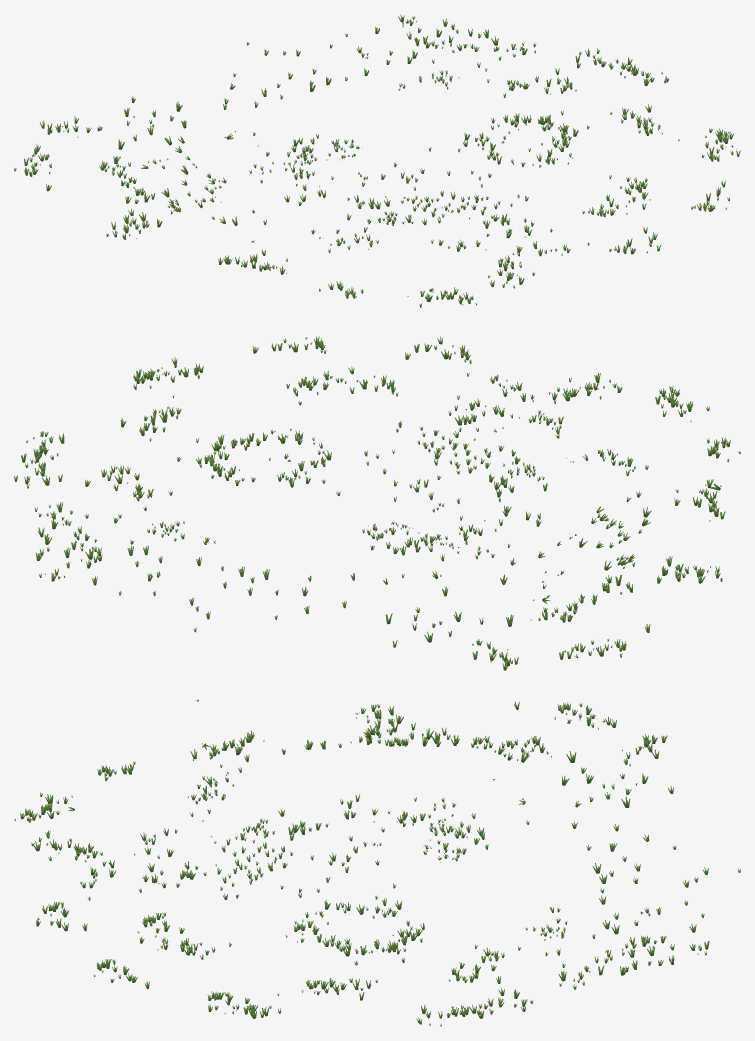
The model's file is grass.glb.
The picture shows the model from 3 angles, top to bottom: view 1: azimuth 30°, elevation 25°; view 2: azimuth 150°, elevation 25°; view 3: azimuth 270°, elevation 25°; orthographic projection. The views are drawn at different scales.
Size of the model in its own units: 24.16 by 2.67 by 23.19.
1 material, 1 textured.
